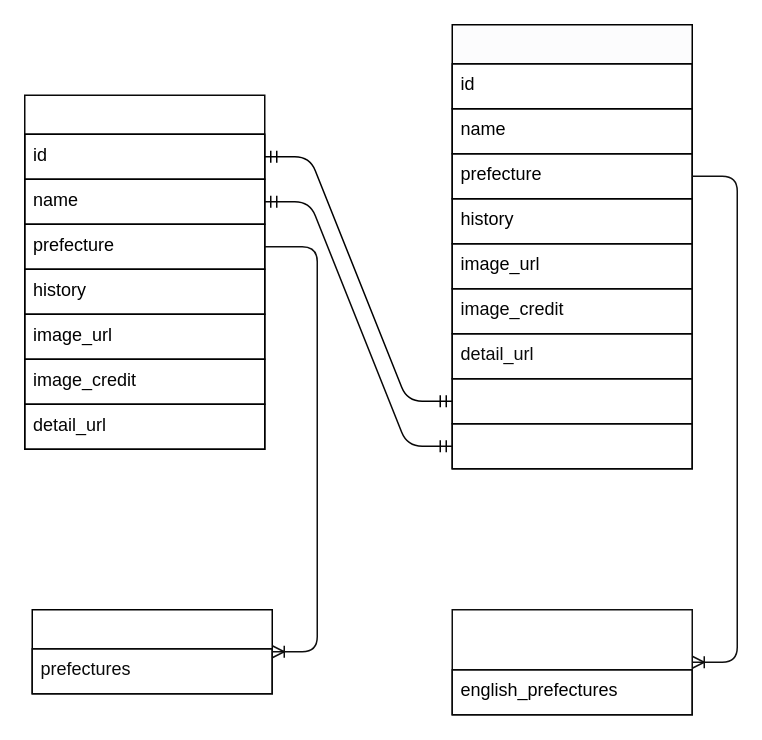
This 762x740 diagram has some shape labels left out. The shapes that lost their labels are listed below. From the top down, each one's box as (x1, y1, x2, y2) in pixels, then its label:
(451, 23, 692, 469): english_foods
(23, 94, 265, 449): foods
(451, 377, 692, 424): food_id
(451, 422, 692, 469): food_name
(31, 608, 272, 694): prefectures(active_hash)
(451, 608, 692, 715): english_prefectures (active_hash)
